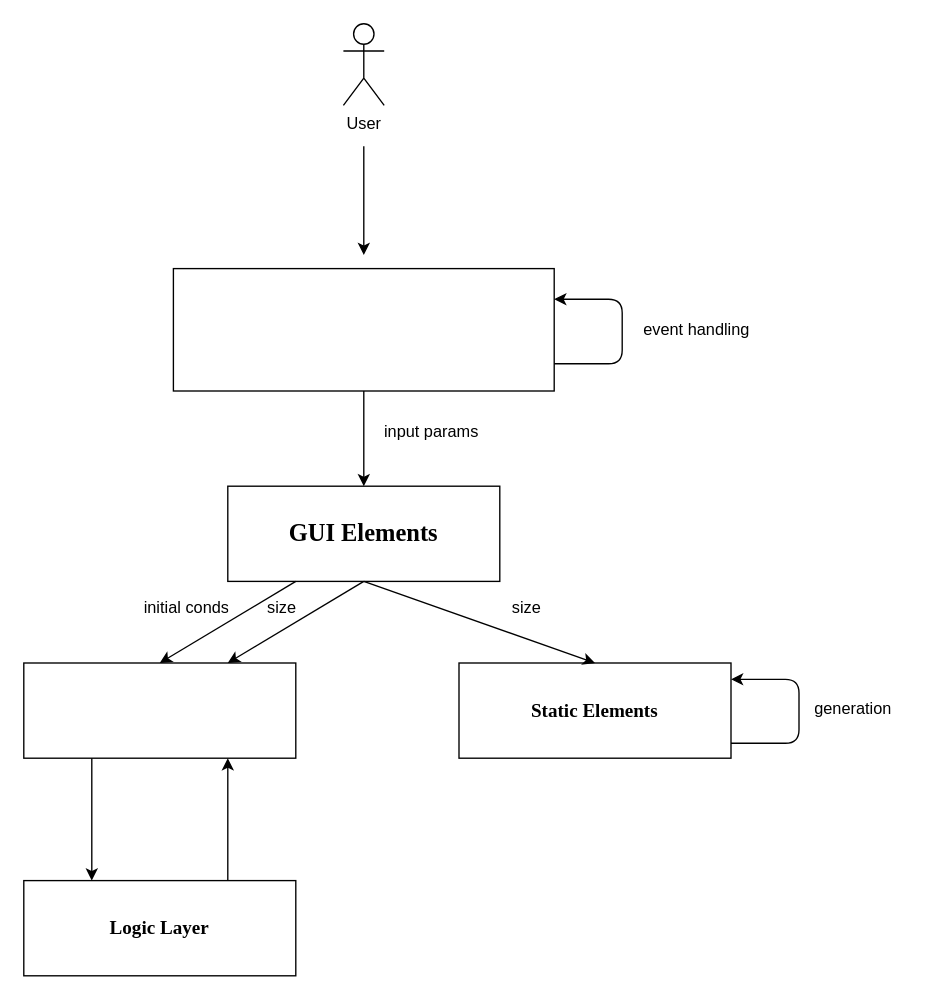
Image size: 932x1000. Some labels were removed from this diagram. Each missing label, with the centre of its shape:
Dynamic Elements: pixel 159 710
Graphical User Interface (GUI): pixel 363 329
